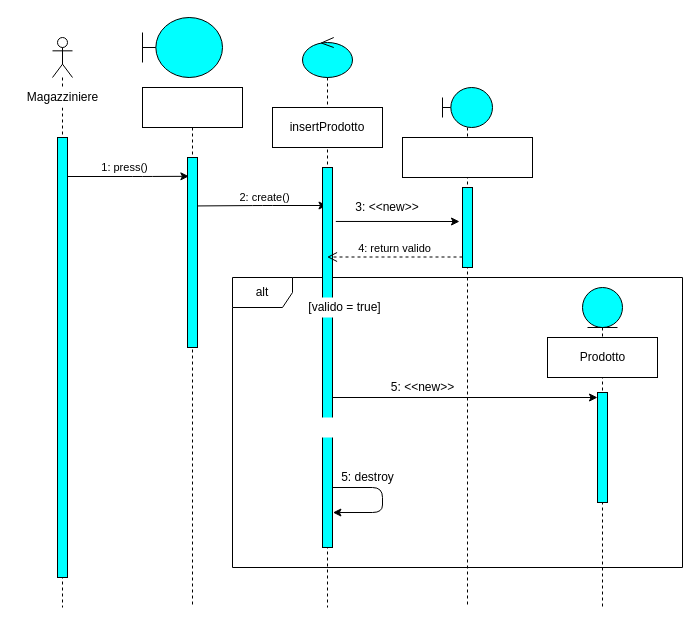
The diagram is 700 pixels wide and 625 high, and some of its shapes have lost their labels. The shapes that lost their labels are listed below. From the top down, each one's centre as x and y in pixels, then its label:
At [467,157]: "formRiassuntoProd".
At [192,347]: "newProdottoForm".
At [332,427]: "[else]".
